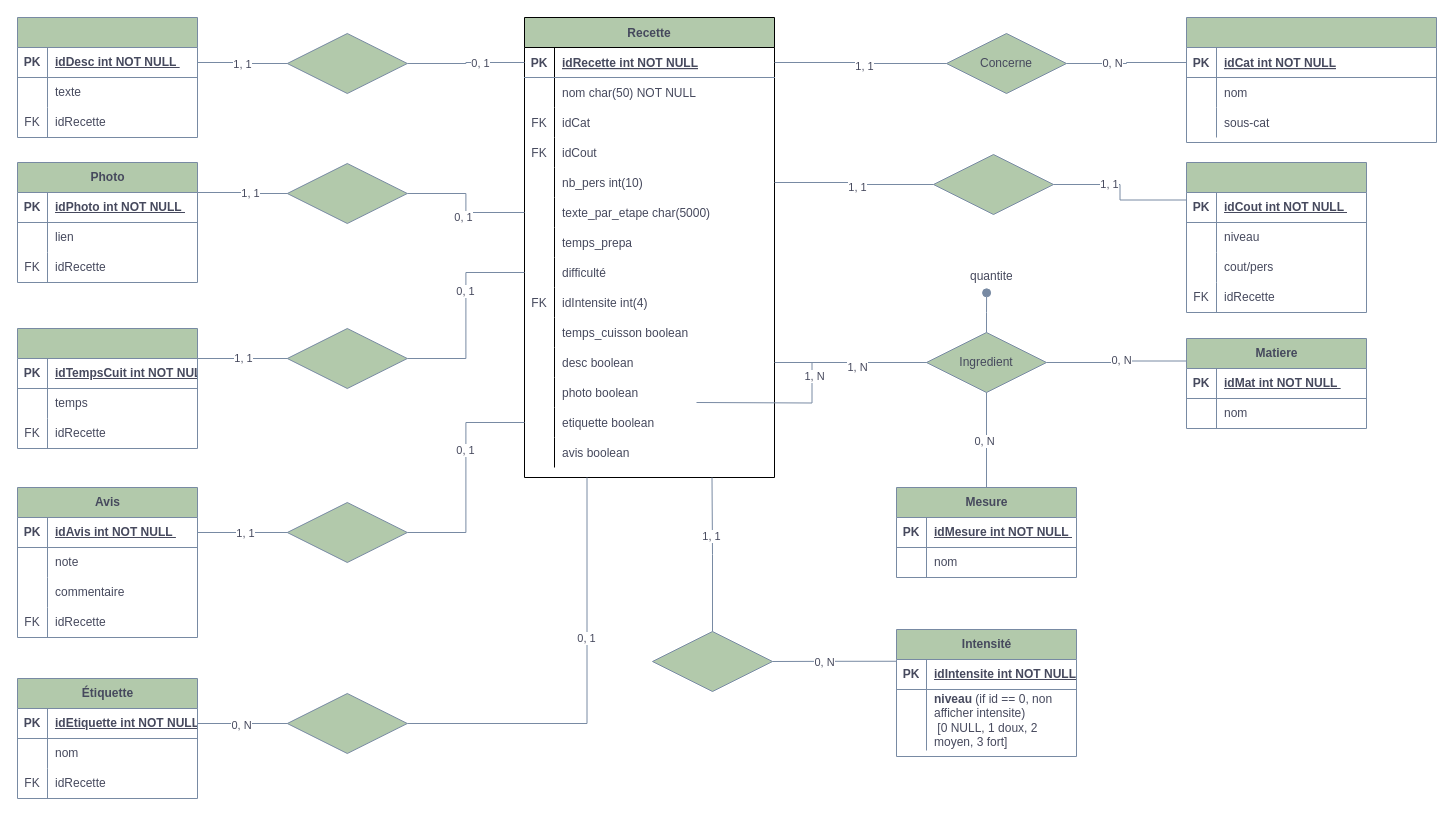
Image size: 1454x816. Some labels were removed from this diagram. Here are the shapes that lost their labels. From the top down, the box of each, then its label:
(16, 16, 198, 138): Description
(1186, 16, 1436, 142): Catégorie
(932, 154, 1054, 214): Coute
(1186, 162, 1366, 312): Coût
(16, 328, 198, 448): Temps_cuisson
